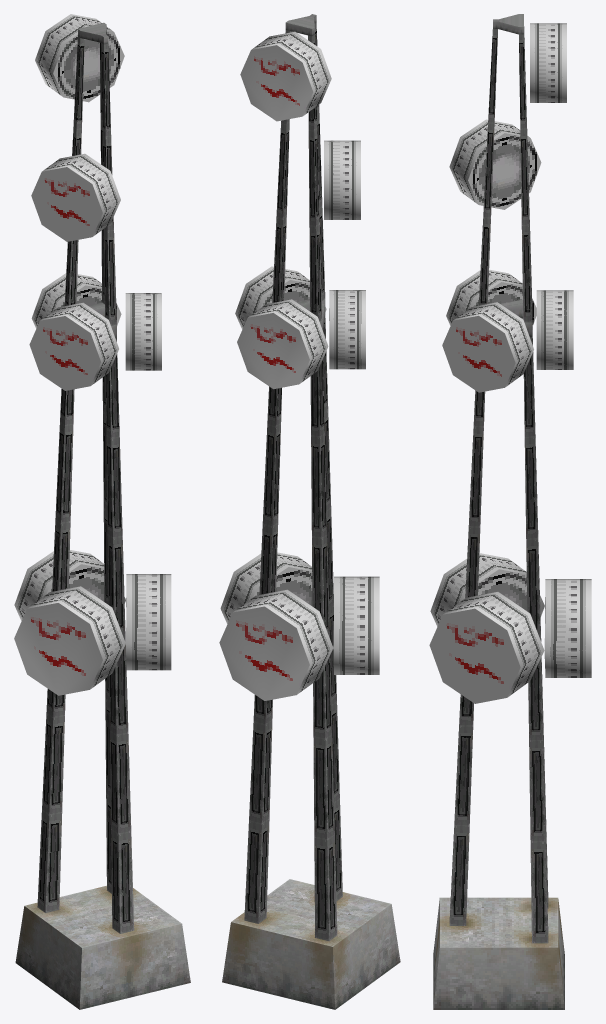
File: M12_Ariel_Big.glb
3 views of the same model, side by side, from view 1: azimuth 30°, elevation 25°; view 2: azimuth 150°, elevation 25°; view 3: azimuth 270°, elevation 25° (orthographic). The views are drawn at different scales.
Visible parts, largest first — view 1: M12_ARIEL_BIG; view 2: M12_ARIEL_BIG; view 3: M12_ARIEL_BIG.
Boxes of the visible parts, x1,y1,x2,y2 form: M12_ARIEL_BIG: [14, 14, 190, 1009]; M12_ARIEL_BIG: [219, 14, 400, 1009]; M12_ARIEL_BIG: [429, 14, 591, 1009].
Size of the model in its own units: 2.82 by 16.12 by 2.46.
Materials: 9 (9 with a texture image).
